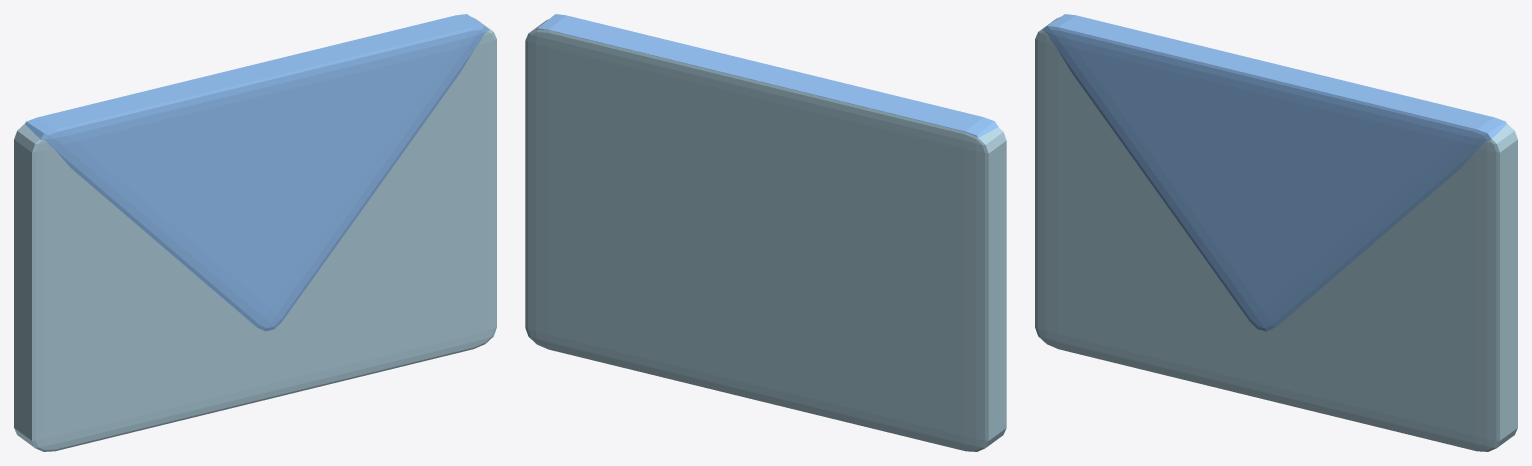
Rendered from mail.glb.
The picture shows the model from 3 angles, left to right: view 1: azimuth 30°, elevation 25°; view 2: azimuth 150°, elevation 25°; view 3: azimuth 330°, elevation 25°; orthographic projection.
Visible parts, largest first — view 1: mail; view 2: mail; view 3: mail.
Part boxes in pixels (<box>): mail: <box>14,14,496,451</box>; mail: <box>525,14,1006,451</box>; mail: <box>1035,14,1517,451</box>.
Bounding box in the file's own units: 3.04 × 2.01 × 0.2831.
